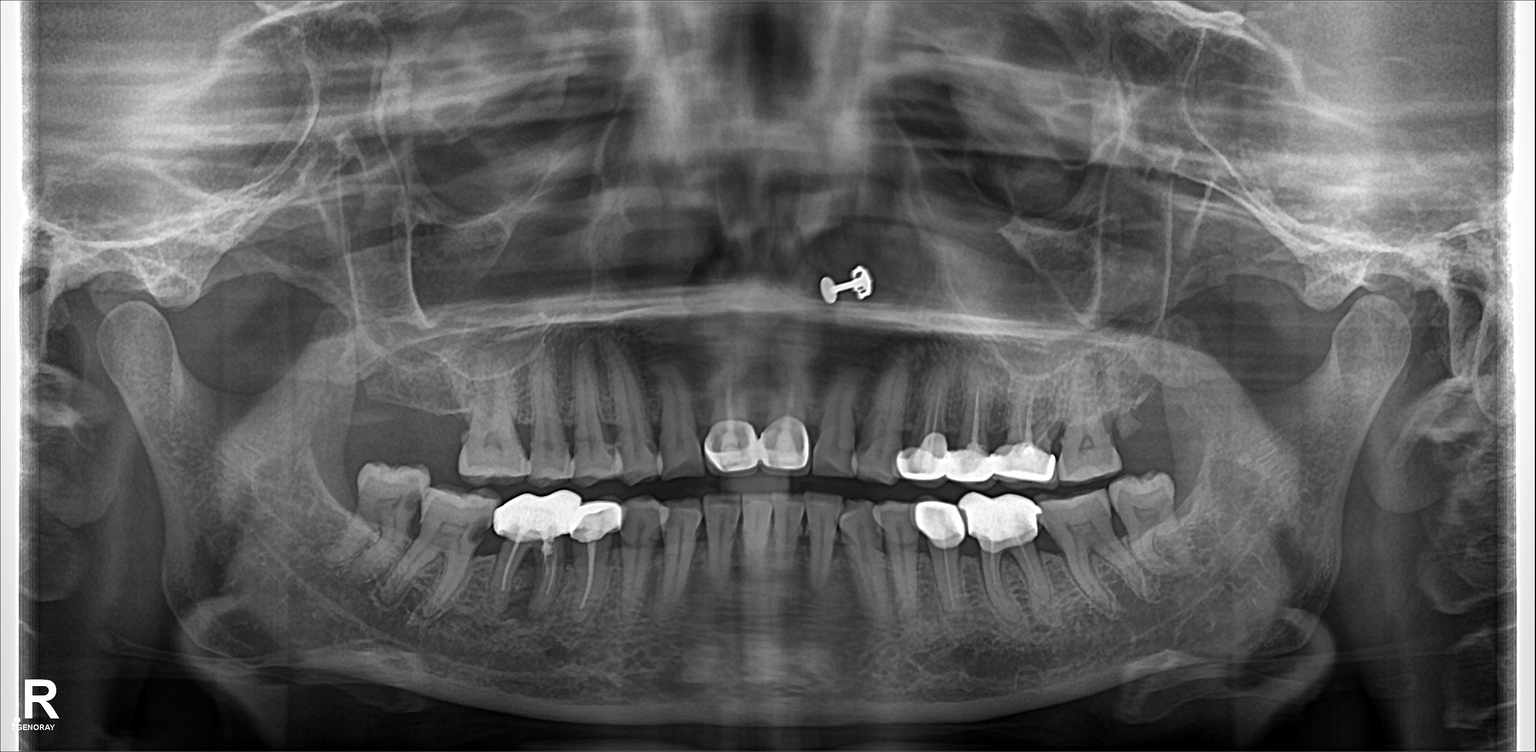Dental Caries: (467, 516, 505, 556)
Endodontically Treated Tooth: (559, 486, 611, 614), (983, 490, 1032, 623), (501, 503, 563, 608), (708, 367, 757, 480), (1007, 382, 1050, 487), (910, 378, 955, 477), (929, 506, 968, 611), (771, 367, 807, 456), (967, 382, 992, 478)
Missing Tooth: (412, 352, 466, 463), (358, 354, 402, 451), (317, 449, 361, 536)
Retained Root: (1102, 378, 1159, 468)
